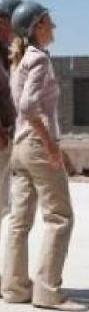boots: (32, 298, 89, 312), (1, 1, 1, 1)
hard-hat: (10, 0, 48, 37)
